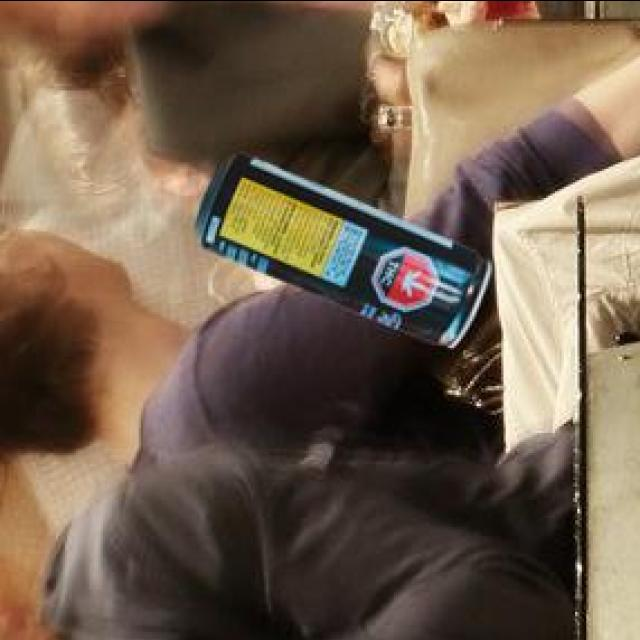logam: (194, 156, 487, 350)
